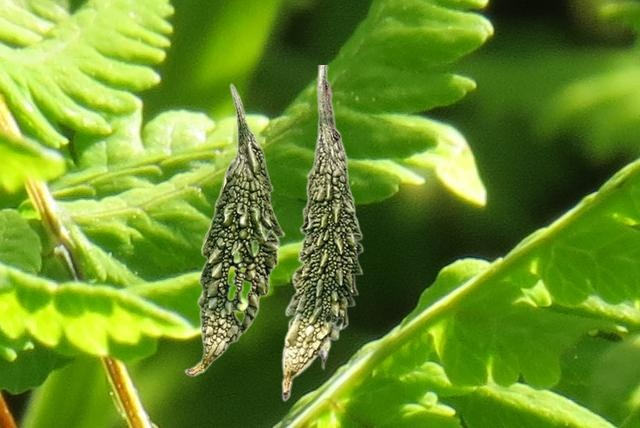ampalaya: (184, 82, 284, 375), (281, 65, 363, 401)
